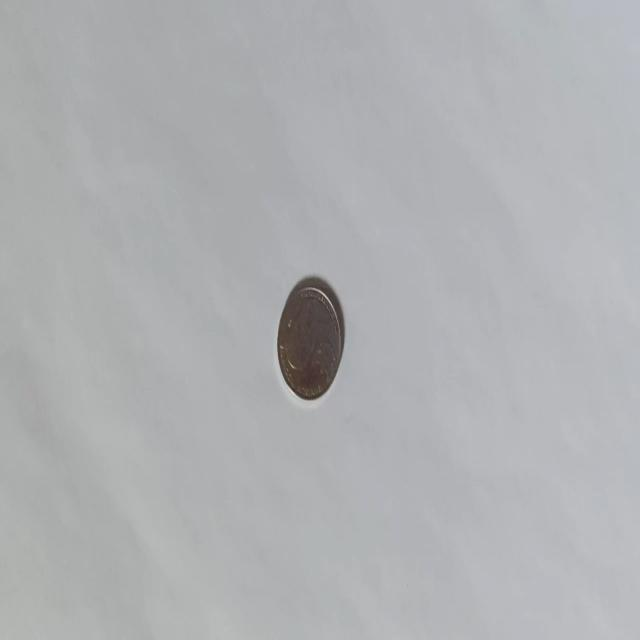seribu rupiah koin: (276, 276, 344, 402)
